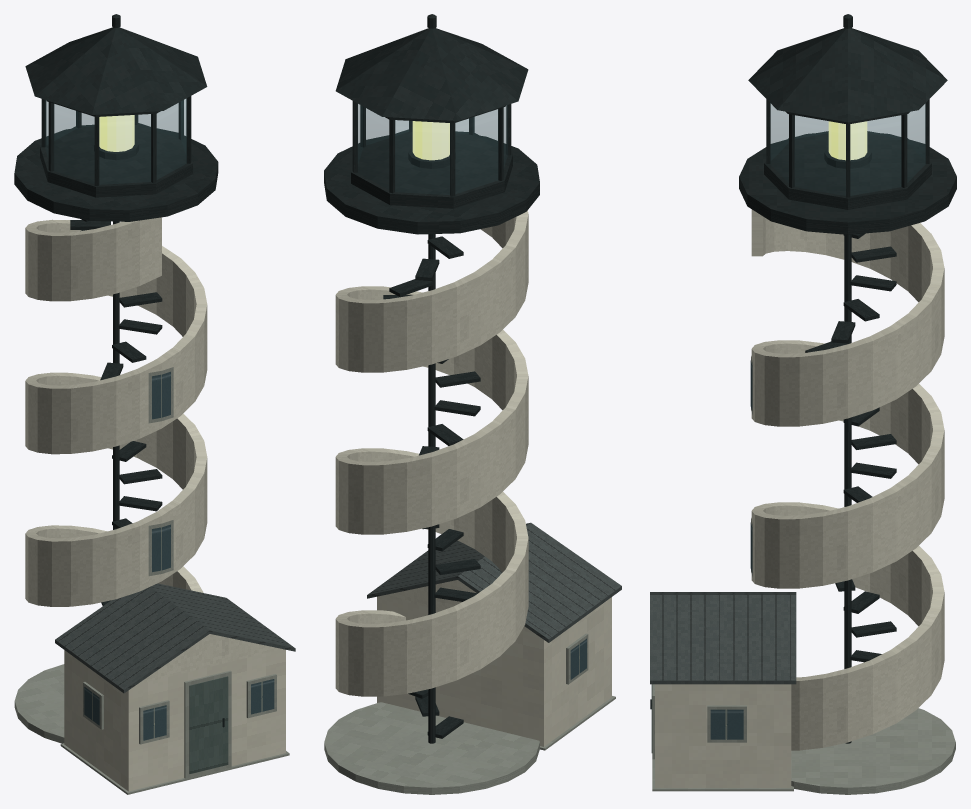
File: Lighthouse_01.glb
The picture shows the model from 3 angles, left to right: view 1: azimuth 30°, elevation 25°; view 2: azimuth 150°, elevation 25°; view 3: azimuth 270°, elevation 25°; orthographic projection. The views are drawn at different scales.
Visible parts, largest first — view 1: Lighthouse_Helical_Thick_Wall, Lighthouse_Hut_Walls, Lighthouse_Hut_Gabled_Roof, Lighthouse_Pointed_Roof, Lighthouse_Lantern_Lower_Rim, Lighthouse_Lantern_Platform, Lighthouse_Hut_Door, Lighthouse_Lantern_Glass_Pane_8, Lighthouse_Ground_Base, Lighthouse_Lantern_Glass_Pane_7, Lighthouse_Hut_Gables, Lighthouse_Lantern_Glass_Pane_1 (+14 smaller); view 2: Lighthouse_Helical_Thick_Wall, Lighthouse_Hut_Walls, Lighthouse_Ground_Base, Lighthouse_Pointed_Roof, Lighthouse_Hut_Gabled_Roof, Lighthouse_Lantern_Lower_Rim, Lighthouse_Lantern_Platform, Lighthouse_Lantern_Glass_Pane_5, Lighthouse_Lantern_Glass_Pane_6, Lighthouse_Lantern_Glass_Pane_4, Lighthouse_Central_Slim_Pole, Lighthouse_Lamp_Core (+3 smaller); view 3: Lighthouse_Helical_Thick_Wall, Lighthouse_Hut_Gabled_Roof, Lighthouse_Pointed_Roof, Lighthouse_Hut_Walls, Lighthouse_Ground_Base, Lighthouse_Lantern_Lower_Rim, Lighthouse_Lantern_Platform, Lighthouse_Lantern_Glass_Pane_3, Lighthouse_Lantern_Glass_Pane_2, Lighthouse_Central_Slim_Pole, Lighthouse_Lamp_Core, Lighthouse_Lantern_Glass_Pane_1 (+8 smaller).
Boxes of the visible parts, x1=… form: Lighthouse_Helical_Thick_Wall: x1=25, y1=217, x2=207, y2=606; Lighthouse_Hut_Walls: x1=64, y1=649, x2=285, y2=791; Lighthouse_Hut_Gabled_Roof: x1=55, y1=583, x2=295, y2=693; Lighthouse_Pointed_Roof: x1=25, y1=27, x2=207, y2=114; Lighthouse_Lantern_Lower_Rim: x1=40, y1=123, x2=192, y2=197; Lighthouse_Lantern_Platform: x1=14, y1=128, x2=218, y2=221; Lighthouse_Hut_Door: x1=189, y1=676, x2=228, y2=773; Lighthouse_Lantern_Glass_Pane_8: x1=99, y1=114, x2=150, y2=184; Lighthouse_Ground_Base: x1=14, y1=664, x2=64, y2=743; Lighthouse_Lantern_Glass_Pane_7: x1=54, y1=104, x2=94, y2=183; Lighthouse_Hut_Gables: x1=137, y1=634, x2=282, y2=684; Lighthouse_Lantern_Glass_Pane_1: x1=157, y1=99, x2=186, y2=179; Lighthouse_Helical_Thick_Wall: x1=335, y1=210, x2=528, y2=696; Lighthouse_Hut_Walls: x1=377, y1=596, x2=611, y2=746; Lighthouse_Ground_Base: x1=324, y1=702, x2=539, y2=794; Lighthouse_Pointed_Roof: x1=335, y1=28, x2=528, y2=120; Lighthouse_Hut_Gabled_Roof: x1=367, y1=522, x2=621, y2=642; Lighthouse_Lantern_Lower_Rim: x1=351, y1=129, x2=512, y2=208; Lighthouse_Lantern_Platform: x1=324, y1=135, x2=539, y2=234; Lighthouse_Lantern_Glass_Pane_5: x1=395, y1=120, x2=449, y2=194; Lighthouse_Lantern_Glass_Pane_6: x1=455, y1=109, x2=498, y2=193; Lighthouse_Lantern_Glass_Pane_4: x1=357, y1=104, x2=388, y2=189; Lighthouse_Central_Slim_Pole: x1=428, y1=234, x2=435, y2=743; Lighthouse_Lamp_Core: x1=412, y1=121, x2=449, y2=160; Lighthouse_Helical_Thick_Wall: x1=751, y1=209, x2=944, y2=750; Lighthouse_Hut_Gabled_Roof: x1=650, y1=592, x2=796, y2=684; Lighthouse_Pointed_Roof: x1=748, y1=28, x2=947, y2=122; Lighthouse_Hut_Walls: x1=655, y1=684, x2=791, y2=787; Lighthouse_Ground_Base: x1=791, y1=708, x2=955, y2=794; Lighthouse_Lantern_Lower_Rim: x1=764, y1=131, x2=931, y2=209; Lighthouse_Lantern_Platform: x1=739, y1=133, x2=956, y2=234; Lighthouse_Lantern_Glass_Pane_3: x1=850, y1=115, x2=901, y2=195; Lighthouse_Lantern_Glass_Pane_2: x1=794, y1=115, x2=845, y2=195; Lighthouse_Central_Slim_Pole: x1=844, y1=234, x2=851, y2=743; Lighthouse_Lamp_Core: x1=828, y1=121, x2=867, y2=160; Lighthouse_Lantern_Glass_Pane_1: x1=770, y1=103, x2=788, y2=182.
Size of the model in its own units: 3.84 by 14.3 by 5.41.
Materials: 8 (7 with a texture image).
